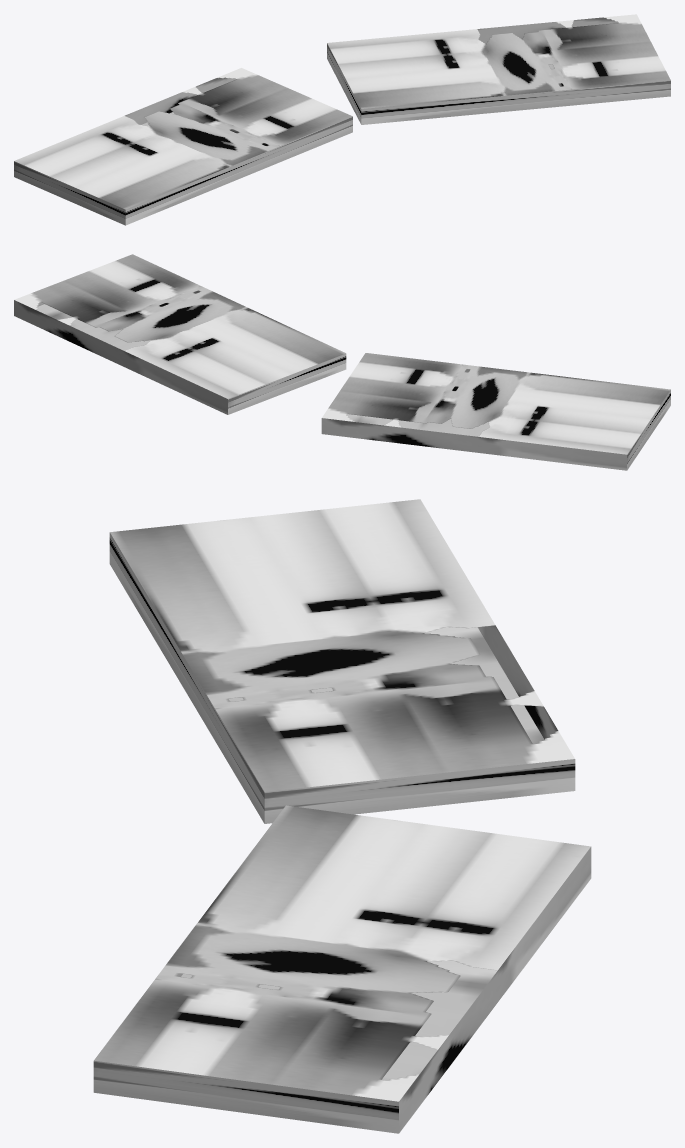
The model's file is temple_prop.dae.
3 views of the same model, one above another, from view 1: azimuth 30°, elevation 25°; view 2: azimuth 150°, elevation 25°; view 3: azimuth 270°, elevation 25° (orthographic). The views are drawn at different scales.
Visible parts, largest first — view 1: temple.001; view 2: temple.001; view 3: temple.001.
Part boxes in pixels (bbox=[...]): temple.001: bbox=[14, 14, 670, 225]; temple.001: bbox=[14, 254, 670, 470]; temple.001: bbox=[93, 499, 591, 1133].
Size of the model in its own units: 9.91 by 3.46 by 0.2459.
